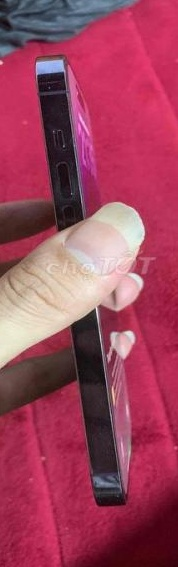scratch: (41, 72, 60, 98)
